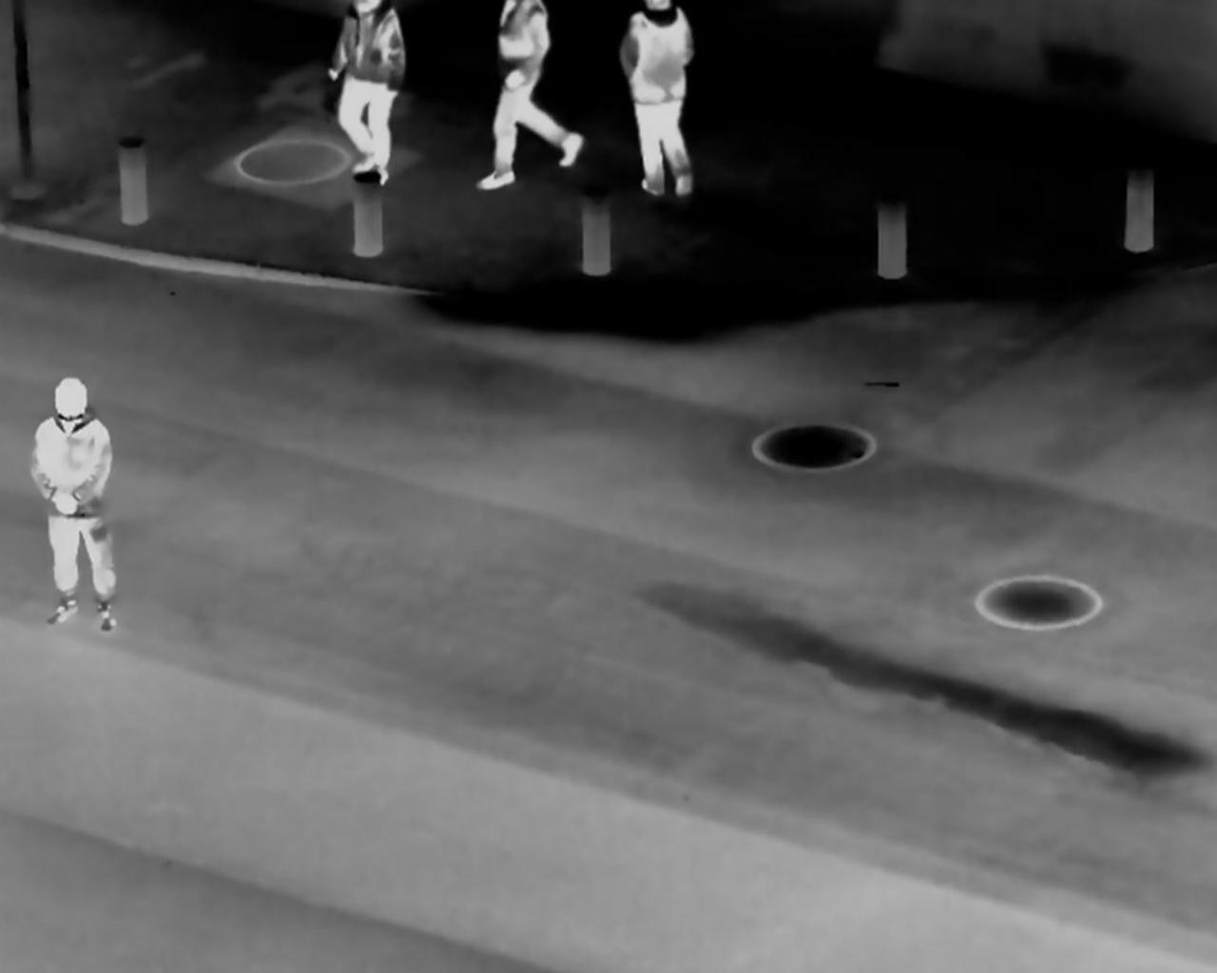person: (22, 370, 126, 636), (327, 3, 406, 184)
